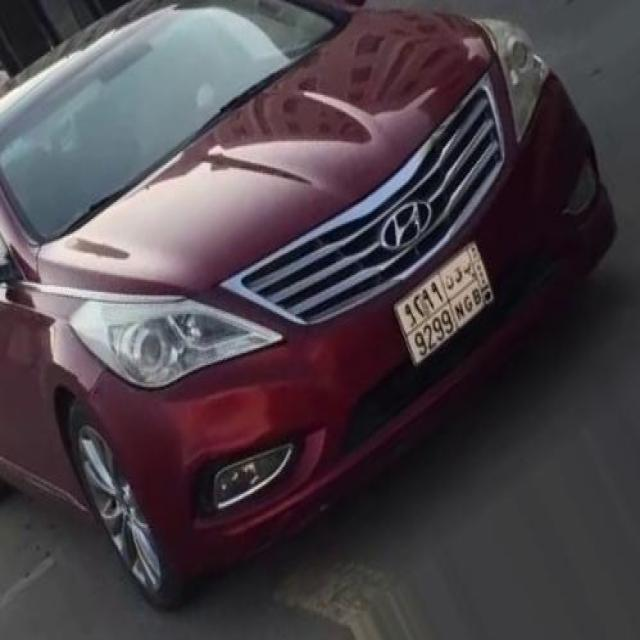Car-plate: (381, 220, 510, 381)
